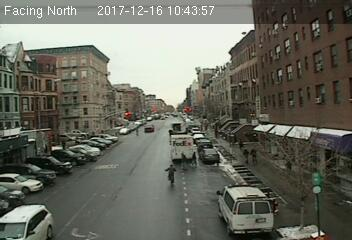bicycle: (165, 163, 177, 185)
car: (1, 202, 53, 238), (199, 149, 221, 164)
pedestrian: (242, 149, 250, 166), (250, 149, 257, 163)
police: (214, 181, 276, 237)
truck: (170, 134, 194, 162)
